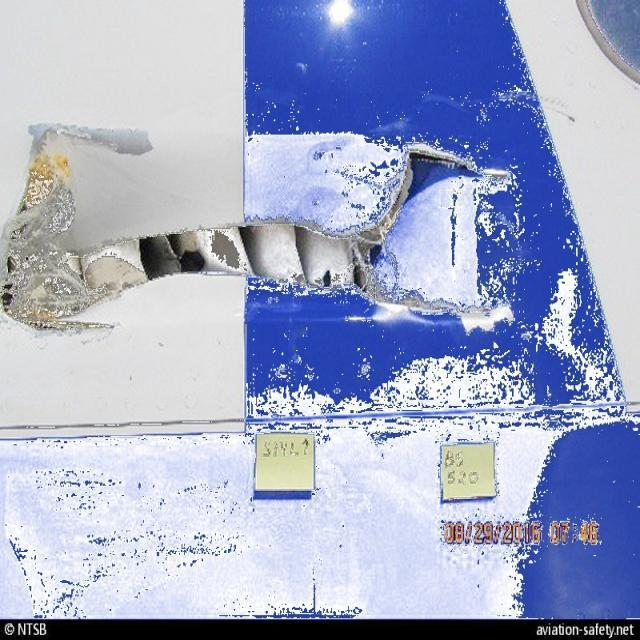crack: (391, 280, 503, 342)
